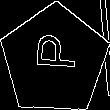P_W: (29, 41, 79, 79)
